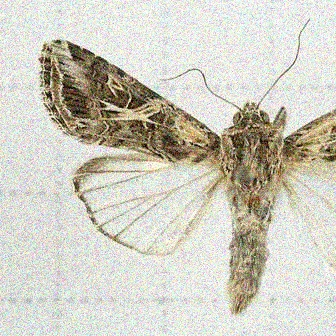Spodoptera litura: (38, 18, 336, 317)
